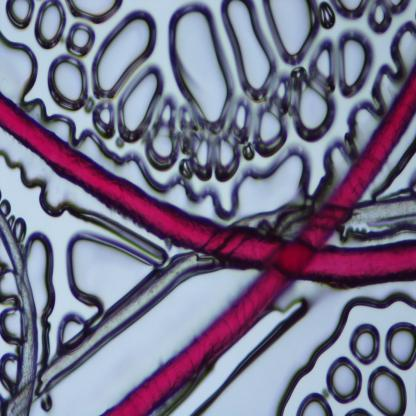Air bubble: (194, 287, 412, 415), (162, 293, 305, 416), (166, 2, 234, 131), (90, 8, 156, 101), (219, 0, 278, 101), (228, 151, 312, 213), (179, 108, 241, 181), (78, 133, 156, 189), (116, 65, 163, 148), (264, 0, 319, 64), (292, 66, 337, 142), (374, 135, 416, 206), (254, 78, 291, 156), (0, 30, 39, 101), (46, 56, 92, 112), (337, 29, 374, 97), (147, 94, 180, 170), (364, 362, 408, 415), (166, 174, 221, 216), (327, 357, 362, 403), (384, 320, 416, 370), (367, 0, 410, 36), (345, 103, 377, 151), (34, 2, 66, 50), (320, 141, 350, 191), (372, 58, 402, 108), (387, 21, 416, 72), (312, 36, 338, 92), (350, 323, 382, 365), (66, 0, 124, 22), (66, 23, 96, 57), (231, 98, 253, 144), (92, 102, 116, 141), (47, 115, 79, 144), (298, 391, 334, 415), (6, 0, 34, 30), (331, 0, 371, 21), (24, 95, 47, 124), (319, 0, 337, 30), (241, 144, 255, 162)
Hair textile: (101, 61, 416, 414), (0, 88, 416, 286)
Microfibre: (30, 251, 214, 405), (0, 211, 37, 415), (348, 194, 416, 243), (235, 204, 310, 238)
